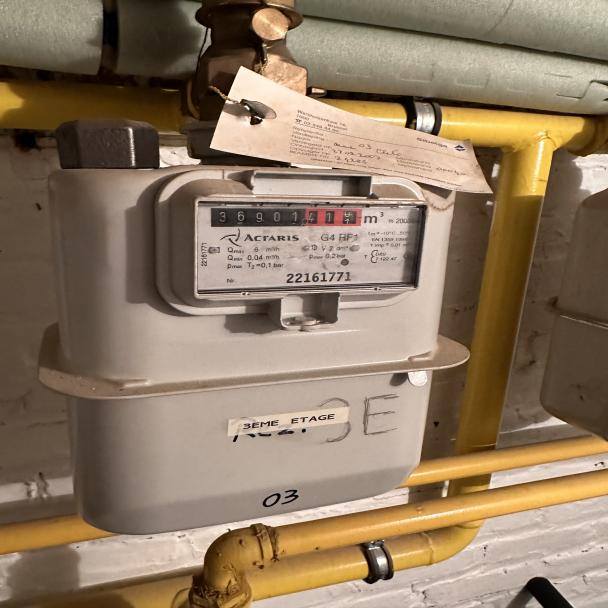0: (341, 210, 363, 228), (270, 209, 288, 224)
1: (319, 208, 342, 226), (287, 208, 307, 226)
3: (212, 208, 236, 226)
4: (304, 209, 321, 226)
6: (234, 206, 251, 226)
9: (251, 207, 271, 224)
cm: (309, 206, 369, 232)
counter: (210, 206, 308, 232)
